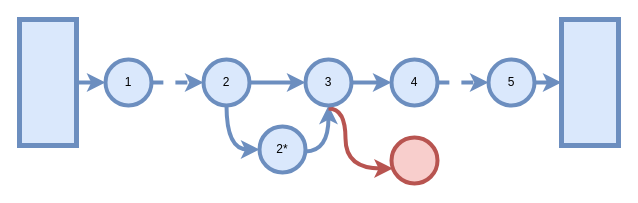
Image size: 638x203. Some labels were removed from this diagram. Here are the shapes that lost their labels. From the top down, the centre of each, then its label:
the point at 47,82: PRE
the point at 589,82: POST
the point at 414,160: 3e
